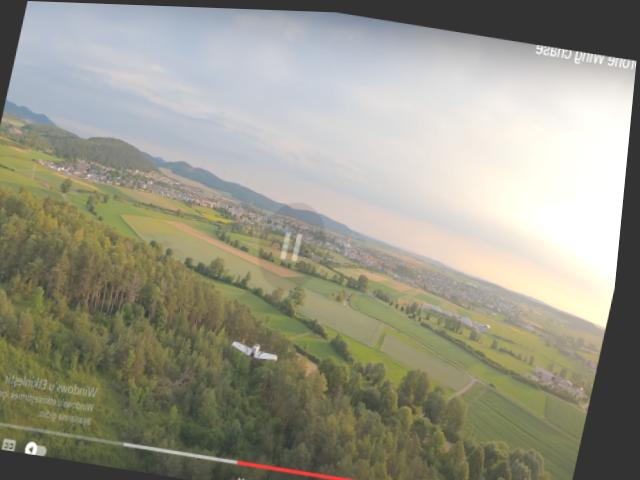plane: (235, 335, 288, 363)
